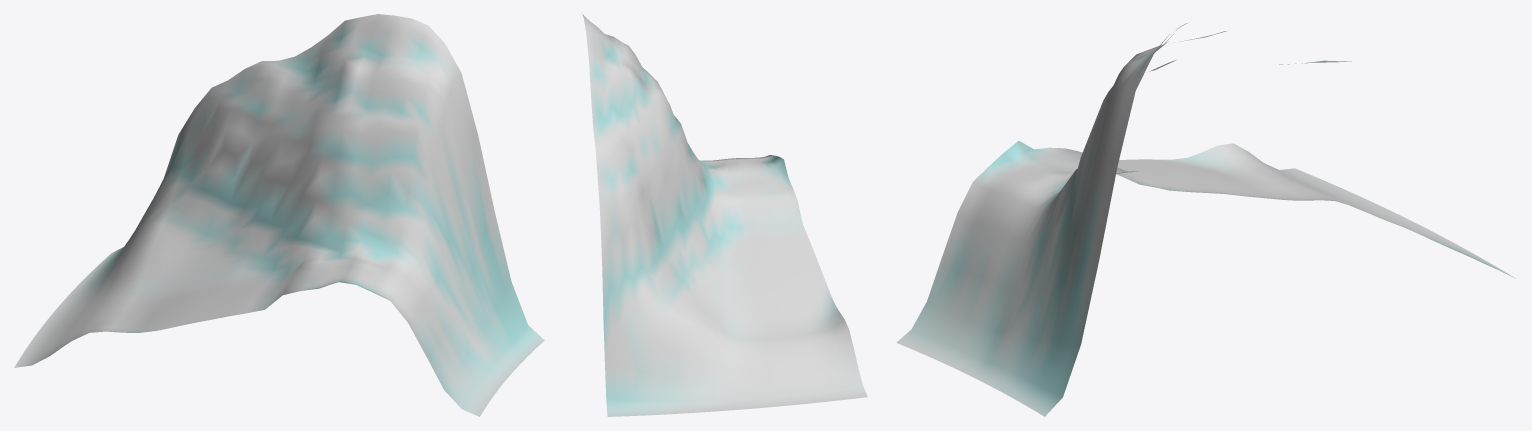
Rendered from near_6.glb.
3 renders of one model, left to right at view 1: azimuth 30°, elevation 25°; view 2: azimuth 150°, elevation 25°; view 3: azimuth 270°, elevation 25°, orthographic. The views are drawn at different scales.
Parts seen in each view (by area): view 1: Mountain; view 2: Mountain; view 3: Mountain.
Part boxes in pixels (left/top/right/bottom): Mountain: left=14, top=14, right=544, bottom=416; Mountain: left=582, top=14, right=867, bottom=416; Mountain: left=896, top=22, right=1515, bottom=416.
Bounding box in the file's own units: 359 × 237 × 379.
